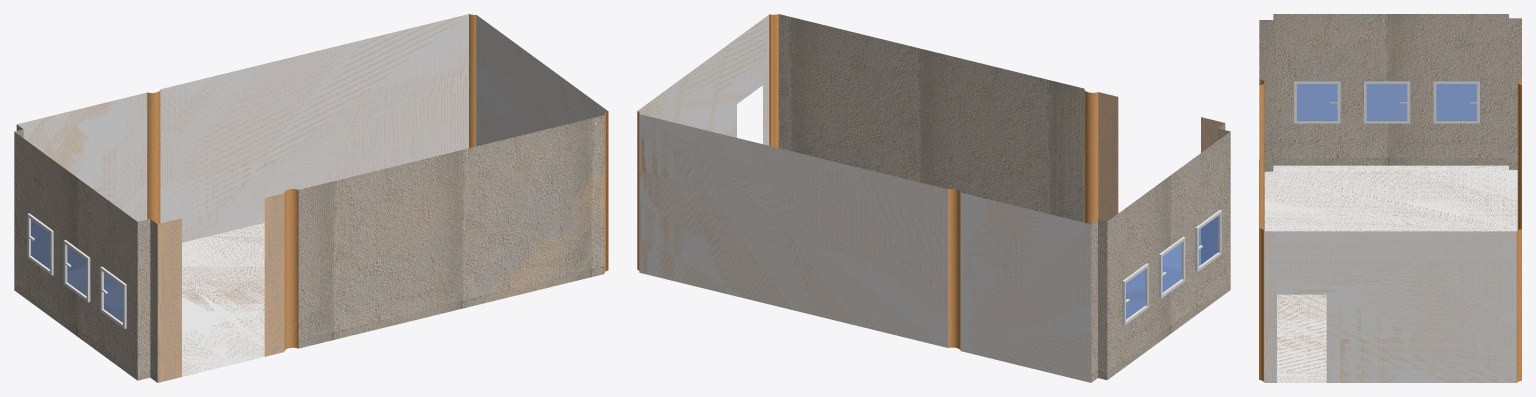
The model's file is AUL025.obj.
3 views of the same model, side by side, from view 1: azimuth 30°, elevation 25°; view 2: azimuth 150°, elevation 25°; view 3: azimuth 270°, elevation 25° (orthographic). The views are drawn at different scales.
Parts seen in each view (by area): view 1: Mesh10 AUL025 Model, Mesh1 ventana3_1_1 AUL025 Model, Mesh4 ventana3_1_2 AUL025 Model, Mesh7 ventana3_1_3 AUL025 Model; view 2: Mesh10 AUL025 Model, Mesh4 ventana3_1_2 AUL025 Model, Mesh7 ventana3_1_3 AUL025 Model, Mesh1 ventana3_1_1 AUL025 Model; view 3: Mesh10 AUL025 Model, Mesh1 ventana3_1_1 AUL025 Model, Mesh4 ventana3_1_2 AUL025 Model, Mesh7 ventana3_1_3 AUL025 Model.
Part boxes in pixels (<box>): Mesh10 AUL025 Model: <box>14,14,608,382</box>; Mesh1 ventana3_1_1 AUL025 Model: <box>63,240,90,302</box>; Mesh4 ventana3_1_2 AUL025 Model: <box>27,213,53,275</box>; Mesh7 ventana3_1_3 AUL025 Model: <box>100,266,126,328</box>; Mesh10 AUL025 Model: <box>637,14,1230,382</box>; Mesh4 ventana3_1_2 AUL025 Model: <box>1122,263,1148,325</box>; Mesh7 ventana3_1_3 AUL025 Model: <box>1195,210,1221,272</box>; Mesh1 ventana3_1_1 AUL025 Model: <box>1159,236,1185,298</box>; Mesh10 AUL025 Model: <box>1259,14,1521,382</box>; Mesh1 ventana3_1_1 AUL025 Model: <box>1364,81,1410,123</box>; Mesh4 ventana3_1_2 AUL025 Model: <box>1433,81,1479,123</box>; Mesh7 ventana3_1_3 AUL025 Model: <box>1294,81,1340,123</box>.
Bounding box in the file's own units: 11.11 × 3.6 × 5.65.
Materials: 8 (2 with a texture image).
